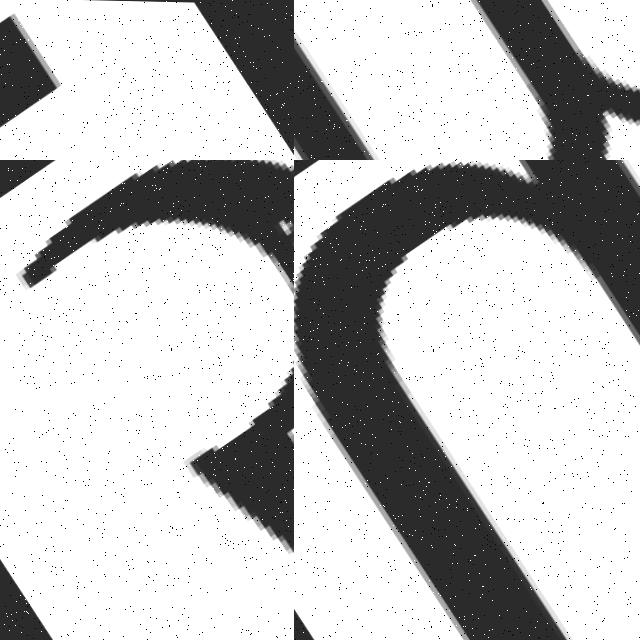2: (0, 2, 294, 160)
5: (0, 160, 294, 640)
M: (294, 0, 640, 160)
U: (294, 160, 640, 640)
